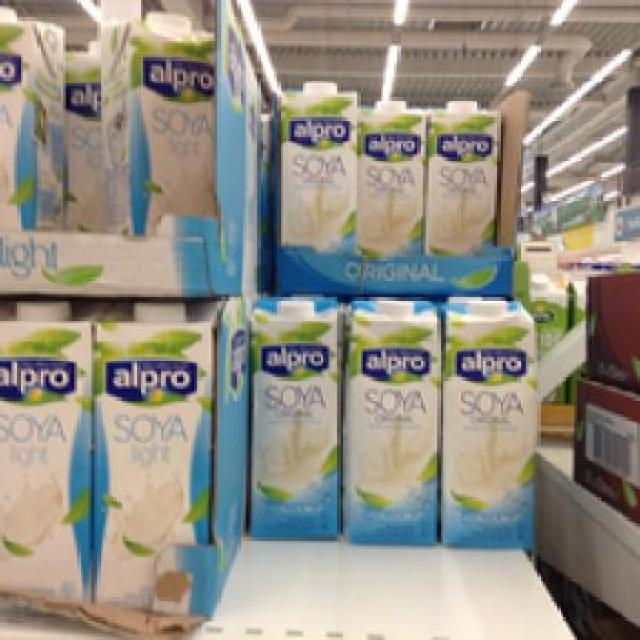Milk: (95, 294, 212, 600), (0, 296, 95, 612), (97, 8, 217, 248), (440, 288, 540, 548), (340, 291, 437, 544), (250, 294, 344, 543), (274, 73, 360, 250), (0, 6, 63, 226), (422, 97, 498, 260), (358, 94, 426, 257)
